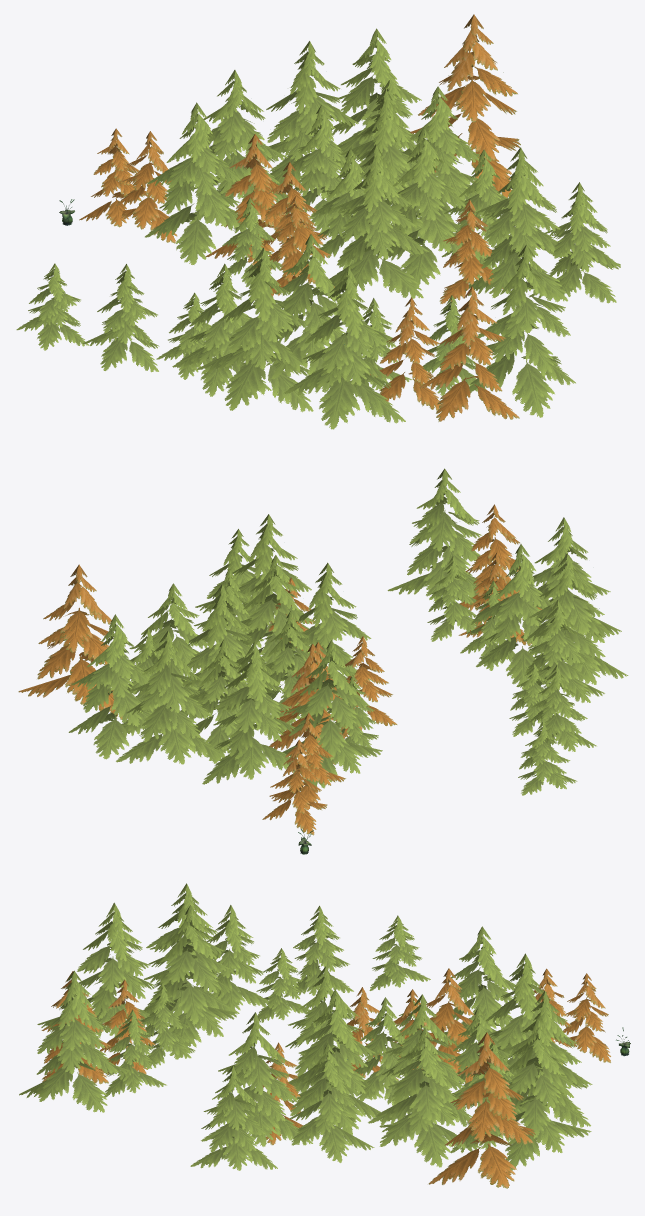
File: zhibei17_1.fbx
3 views of the same model, one above another, from view 1: azimuth 30°, elevation 25°; view 2: azimuth 150°, elevation 25°; view 3: azimuth 270°, elevation 25° (orthographic). The views are drawn at different scales.
Visible parts, largest first — view 1: zhibei17_1; view 2: zhibei17_1; view 3: zhibei17_1.
Part boxes in pixels (bbox=[...]): zhibei17_1: bbox=[16, 14, 620, 429]; zhibei17_1: bbox=[18, 468, 628, 854]; zhibei17_1: bbox=[19, 883, 630, 1188].
Size of the model in its own units: 2912 by 909 by 3061.
